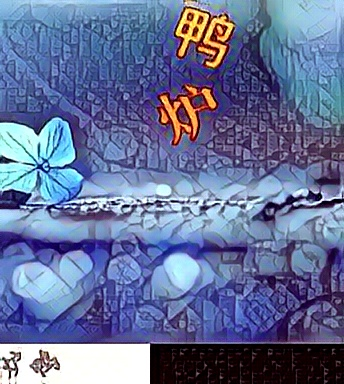C2AF: (152, 79, 217, 144)
D1BC: (170, 4, 235, 69)
